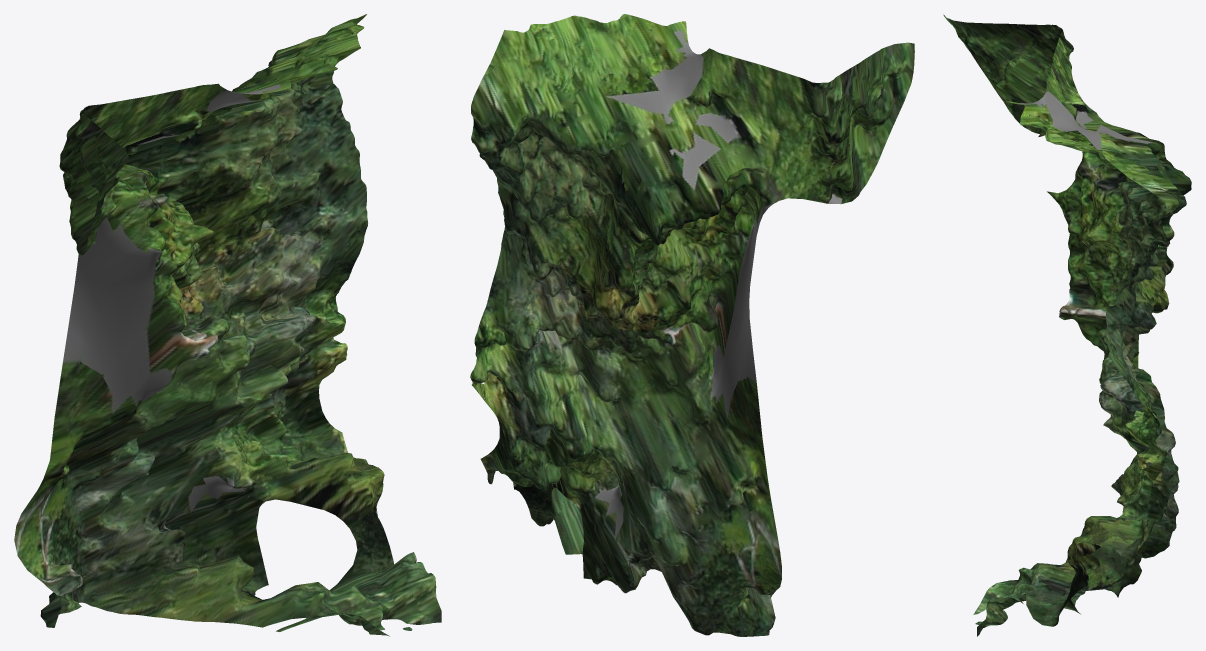
File: Tile_+002_+008.fbx
3 views of the same model, side by side, from view 1: azimuth 30°, elevation 25°; view 2: azimuth 150°, elevation 25°; view 3: azimuth 270°, elevation 25° (orthographic). The views are drawn at different scales.
Visible parts, largest first — view 1: DefaultName; view 2: DefaultName; view 3: DefaultName.
Boxes of the visible parts, box(x1,y1,x2,y2) form: DefaultName: box(14, 14, 441, 636); DefaultName: box(470, 14, 914, 636); DefaultName: box(943, 14, 1191, 636).
Size of the model in its own units: 14.85 by 22.54 by 10.59.
